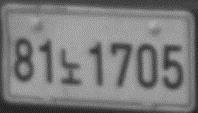0: (136, 43, 158, 89)
1: (38, 37, 54, 85), (89, 41, 105, 87)
5: (162, 44, 184, 88)
7: (109, 41, 132, 87)
8: (14, 36, 35, 82)
노: (59, 48, 83, 87)
